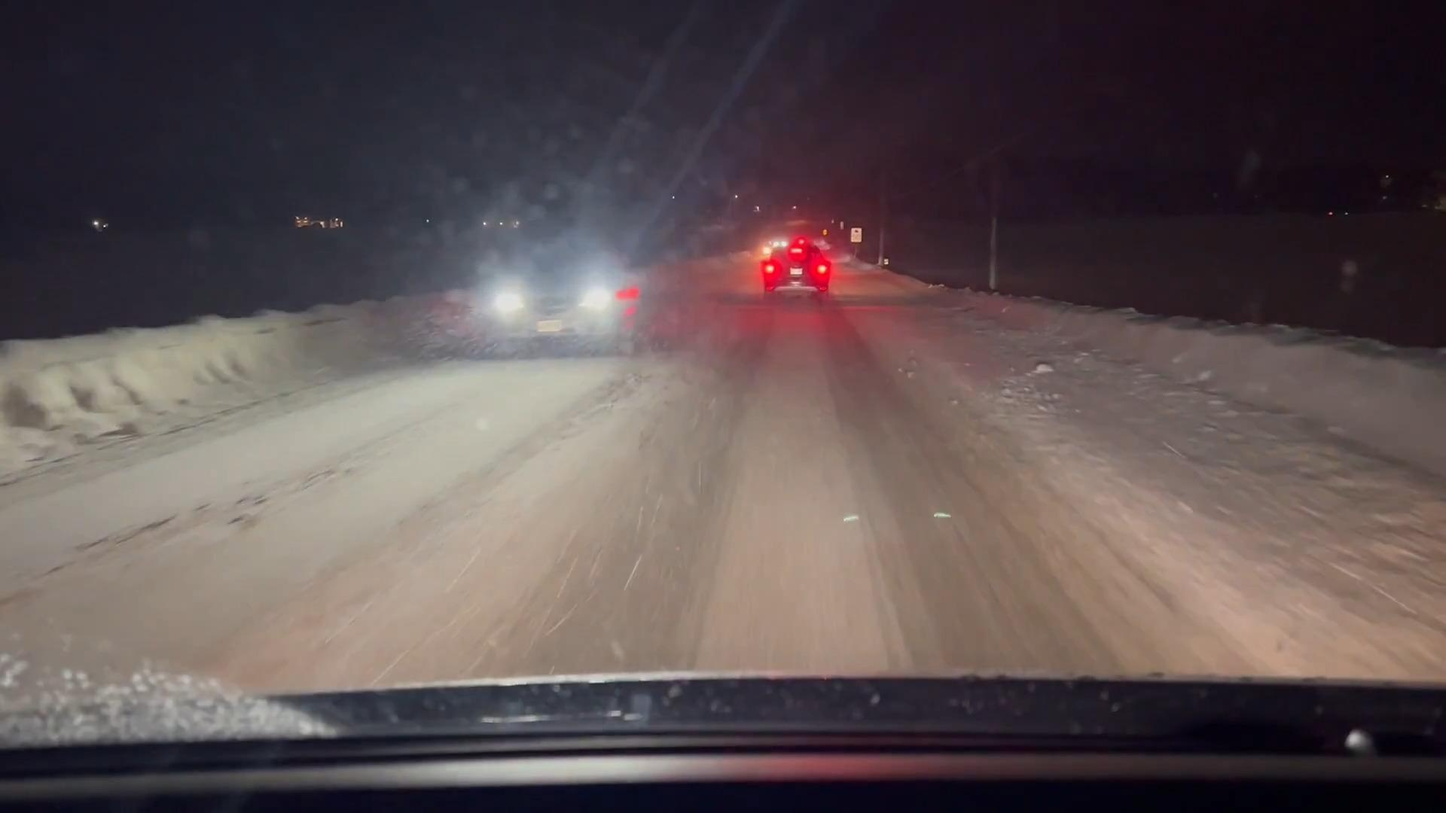Snow: (0, 257, 1446, 694)
